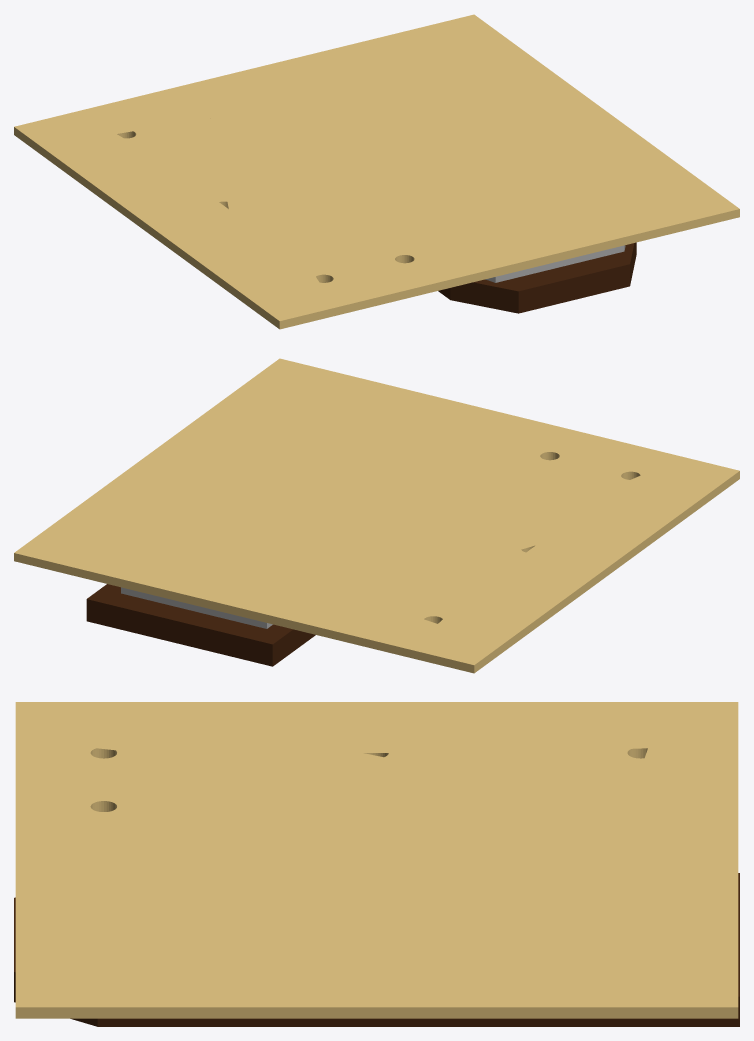
File: sushi_celing.fbx
The picture shows the model from 3 angles, top to bottom: view 1: azimuth 30°, elevation 25°; view 2: azimuth 150°, elevation 25°; view 3: azimuth 270°, elevation 25°; orthographic projection. The views are drawn at different scales.
Visible parts, largest first — view 1: Cube, 立方体.001, 立方体.002; view 2: Cube, 立方体.001, 立方体.002; view 3: Cube, 立方体.001.
Boxes of the visible parts, x1,y1,x2,y2 form: Cube: (14, 14, 739, 329); 立方体.001: (438, 242, 636, 313); 立方体.002: (485, 245, 625, 282); Cube: (14, 358, 739, 673); 立方体.001: (86, 584, 315, 666); 立方体.002: (121, 587, 272, 628); Cube: (15, 702, 738, 1018); 立方体.001: (14, 873, 739, 1026).
Bounding box in the file's own units: 4000 × 415 × 4019.
